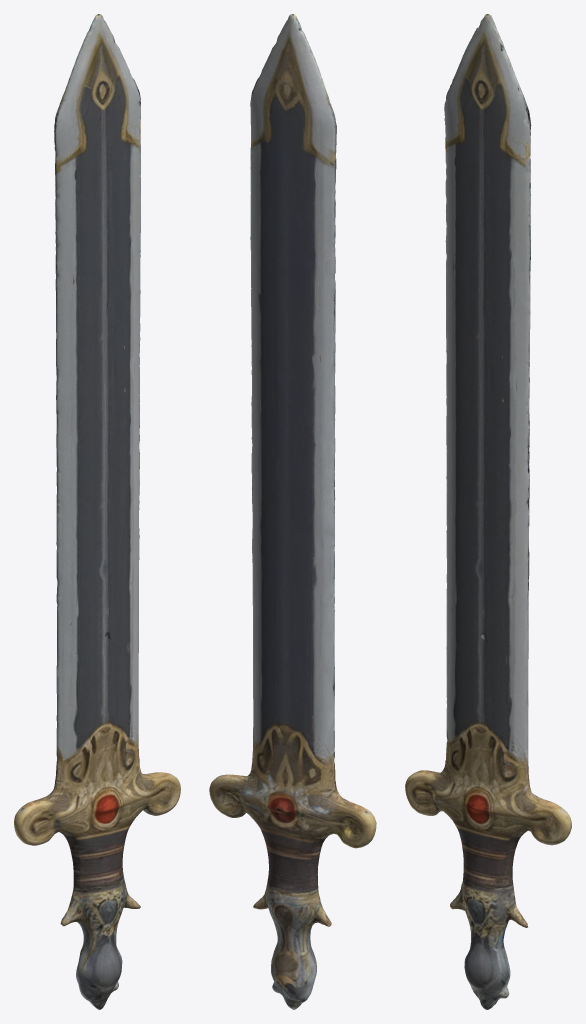
Rendered from apex-fantasia-espada.glb.
3 renders of one model, left to right at view 1: azimuth 30°, elevation 25°; view 2: azimuth 150°, elevation 25°; view 3: azimuth 330°, elevation 25°, orthographic.
Bounding box in the file's own units: 0.3455 × 2 × 0.0896.
1 material, 1 textured.
